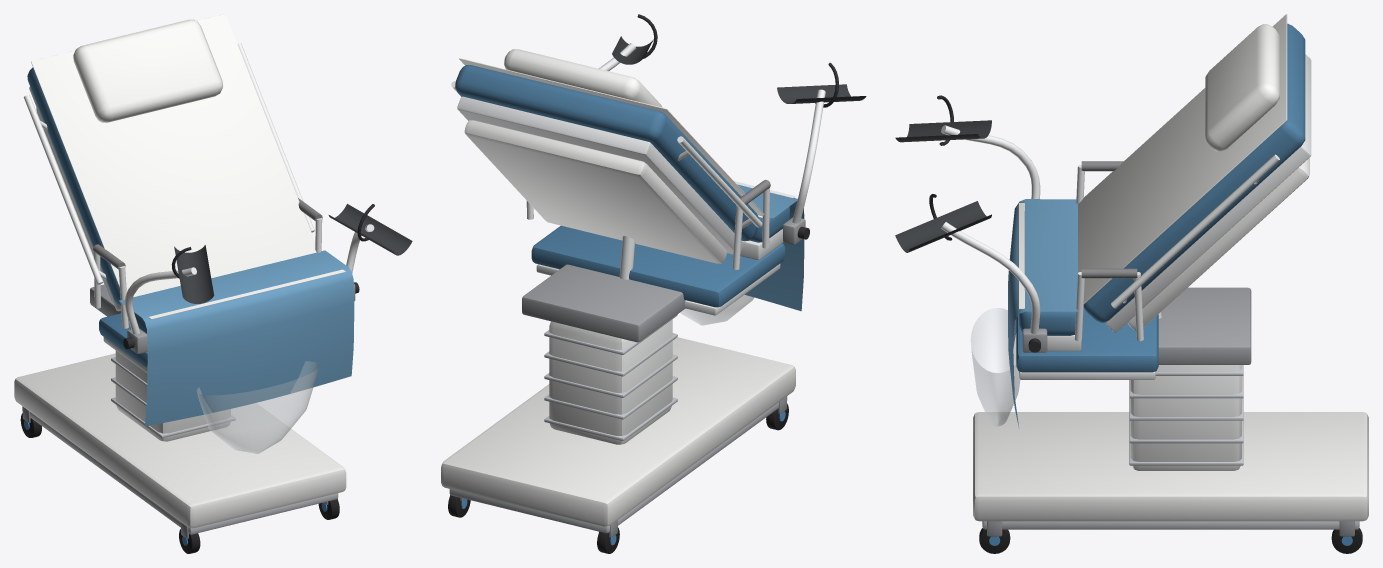
File: ND_DeliveryBed.fbx
3 views of the same model, side by side, from view 1: azimuth 30°, elevation 25°; view 2: azimuth 150°, elevation 25°; view 3: azimuth 270°, elevation 25° (orthographic). The views are drawn at different scales.
Visible parts, largest first — view 1: ND_DeliveryBed_Mesh; view 2: ND_DeliveryBed_Mesh; view 3: ND_DeliveryBed_Mesh.
Part boxes in pixels (x1=…): ND_DeliveryBed_Mesh: x1=14, y1=14, x2=412, y2=553; ND_DeliveryBed_Mesh: x1=441, y1=14, x2=866, y2=553; ND_DeliveryBed_Mesh: x1=895, y1=14, x2=1368, y2=553.
Bounding box in the file's own units: 0.9686 × 1.64 × 1.53.
